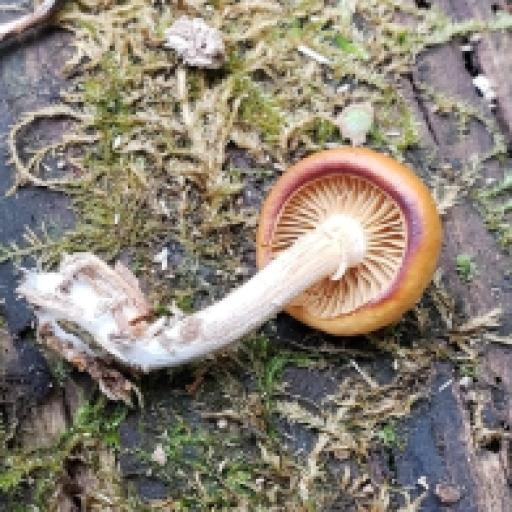mushroom: (218, 139, 447, 361)
